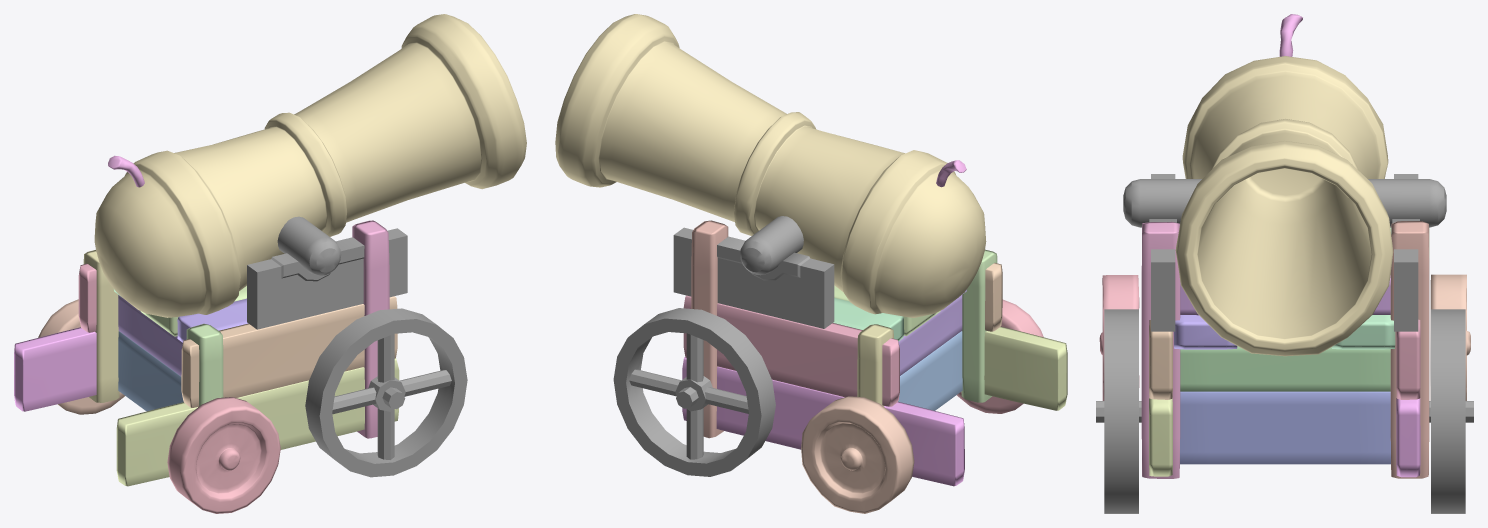
The model's file is Canon_LP.fbx.
The picture shows the model from 3 angles, left to right: view 1: azimuth 30°, elevation 25°; view 2: azimuth 150°, elevation 25°; view 3: azimuth 270°, elevation 25°; orthographic projection. The views are drawn at different scales.
Parts seen in each view (by area): view 1: Wood_003_HP; view 2: Wood_003_HP; view 3: Wood_003_HP.
Boxes of the visible parts, x1,y1,x2,y2 form: Wood_003_HP: (14, 14, 526, 513); Wood_003_HP: (555, 14, 1067, 513); Wood_003_HP: (1096, 14, 1473, 513).
Size of the model in its own units: 17.52 by 14.32 by 11.12.
